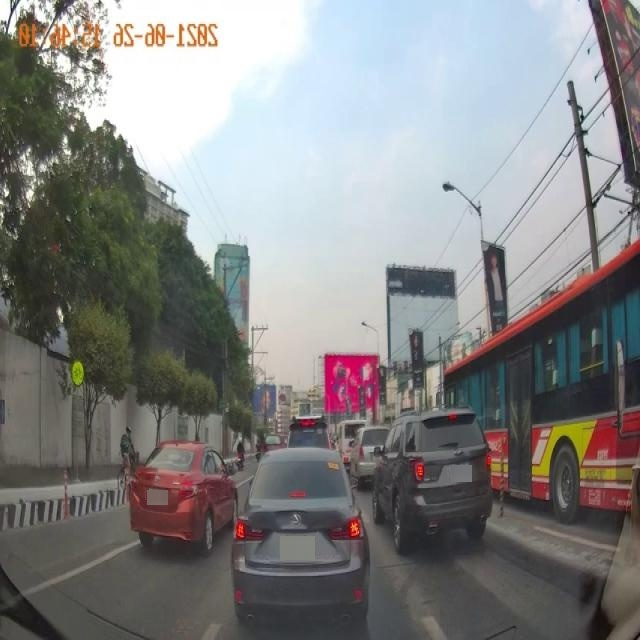bus: (1, 232, 495, 530)
car: (372, 410, 491, 562), (126, 448, 241, 555)
motorcycle: (236, 430, 244, 473)
